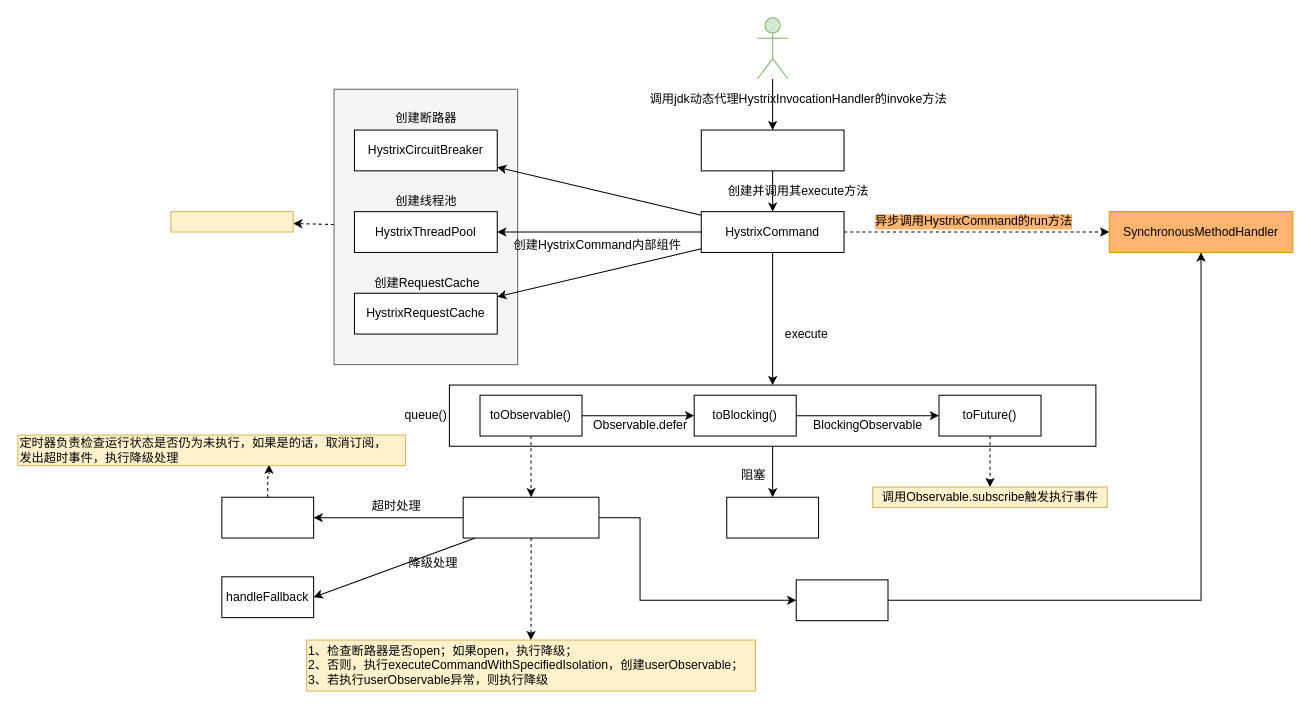
Image size: 1311x709. Some labels were removed from this diagram. The box of each missing label's shape, as (x1, y1, x2, y2) in pixels:
applyHystrixSemantics: (462, 496, 599, 538)
get(): (726, 496, 819, 538)
HystrixInvocationHandler: (700, 129, 844, 171)
HystrixTimer: (221, 496, 314, 538)
userObservable: (795, 579, 888, 621)
每一个服务一组组件: (170, 211, 293, 232)
